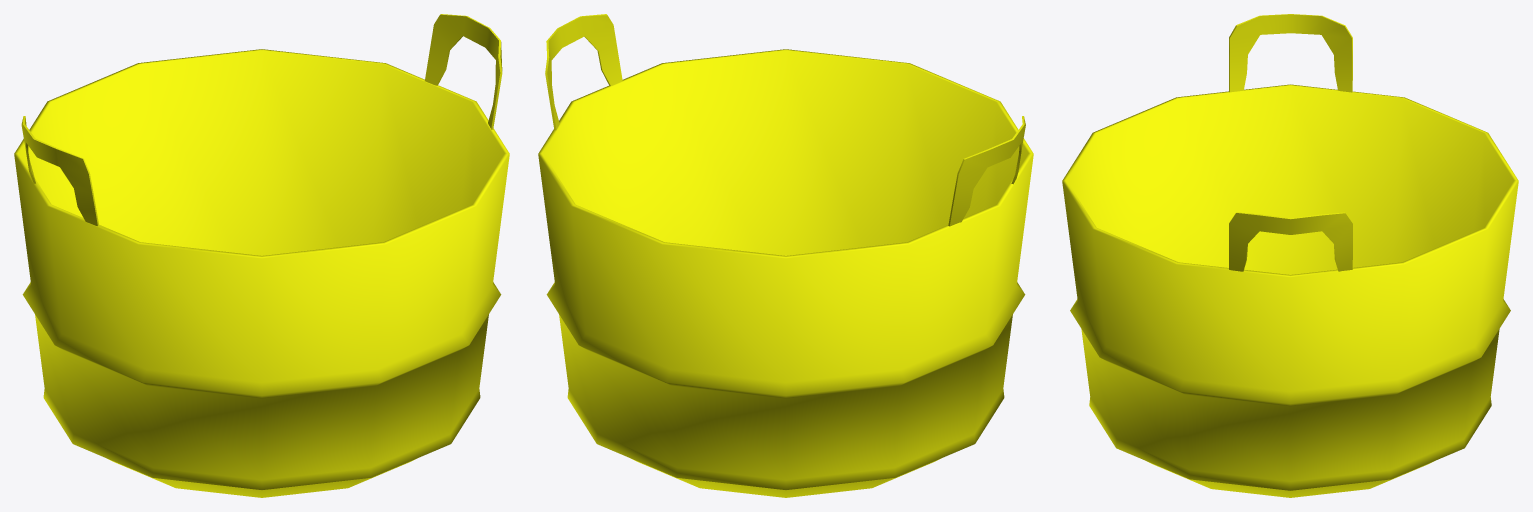
The model's file is Laundry_Tub_I.FBX.
3 renders of one model, left to right at view 1: azimuth 30°, elevation 25°; view 2: azimuth 150°, elevation 25°; view 3: azimuth 270°, elevation 25°, orthographic. The views are drawn at different scales.
Visible parts, largest first — view 1: Laundry_Tub; view 2: Laundry_Tub; view 3: Laundry_Tub.
Boxes of the visible parts, x1,y1,x2,y2 form: Laundry_Tub: [14, 14, 509, 497]; Laundry_Tub: [538, 14, 1033, 497]; Laundry_Tub: [1062, 14, 1518, 497].
Size of the model in its own units: 102 by 73.29 by 96.11.
